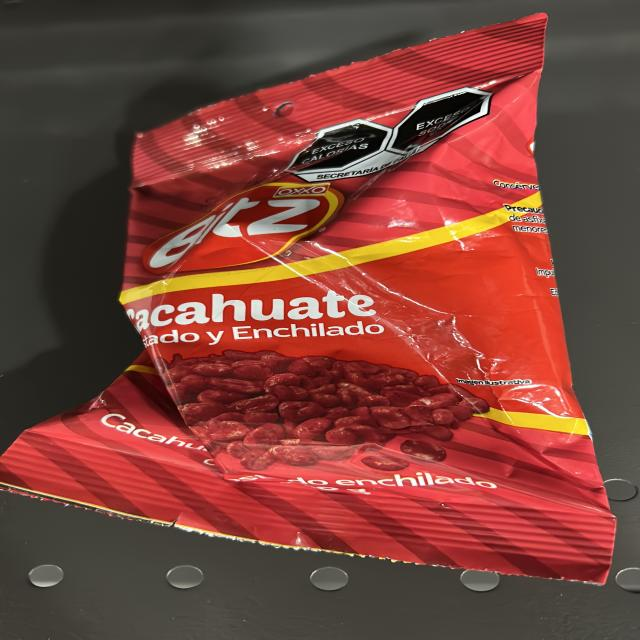bitzEnchilado90: (136, 81, 540, 557)
